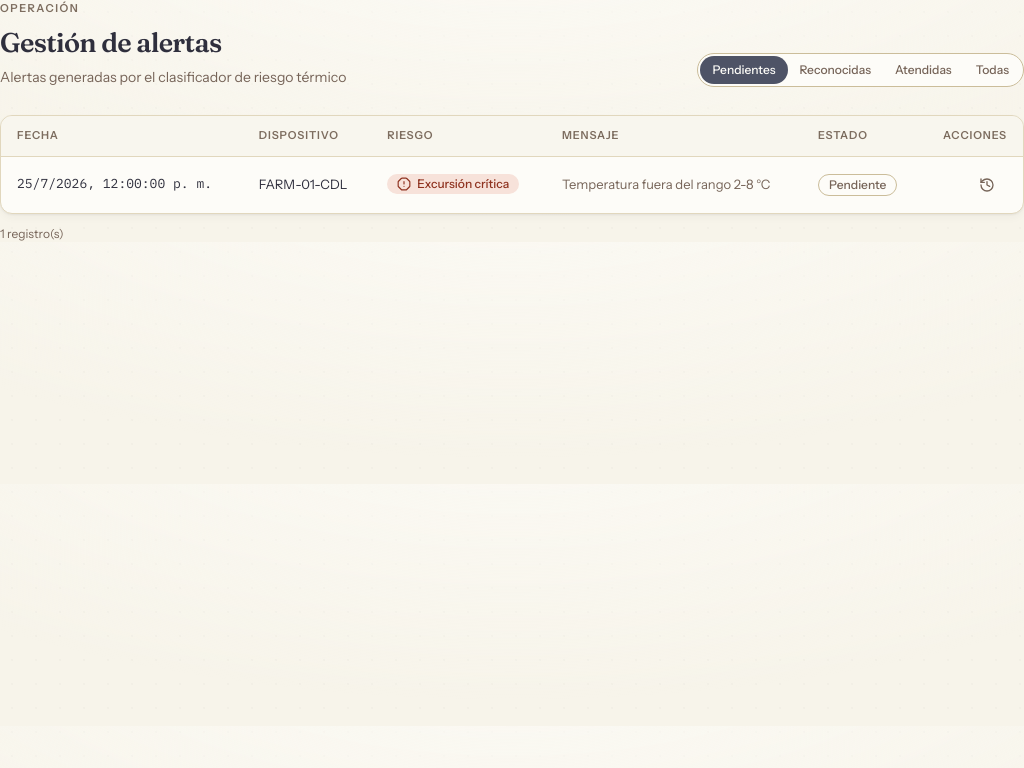
Scenario: AlertasPage (RF-09, RF-10, HU-20/21/23/27/41) › informa fallo al cargar cronología sin afirmar que no hay acciones
The width and height of the screenshot is (1024, 768).
What coordinates should you click on to do the following:
click the button named "Ver cronología de atención: FARM-01-CDL"
I would click on:
 (987, 184)
Its box is x1=967 y1=168 x2=1007 y2=200.
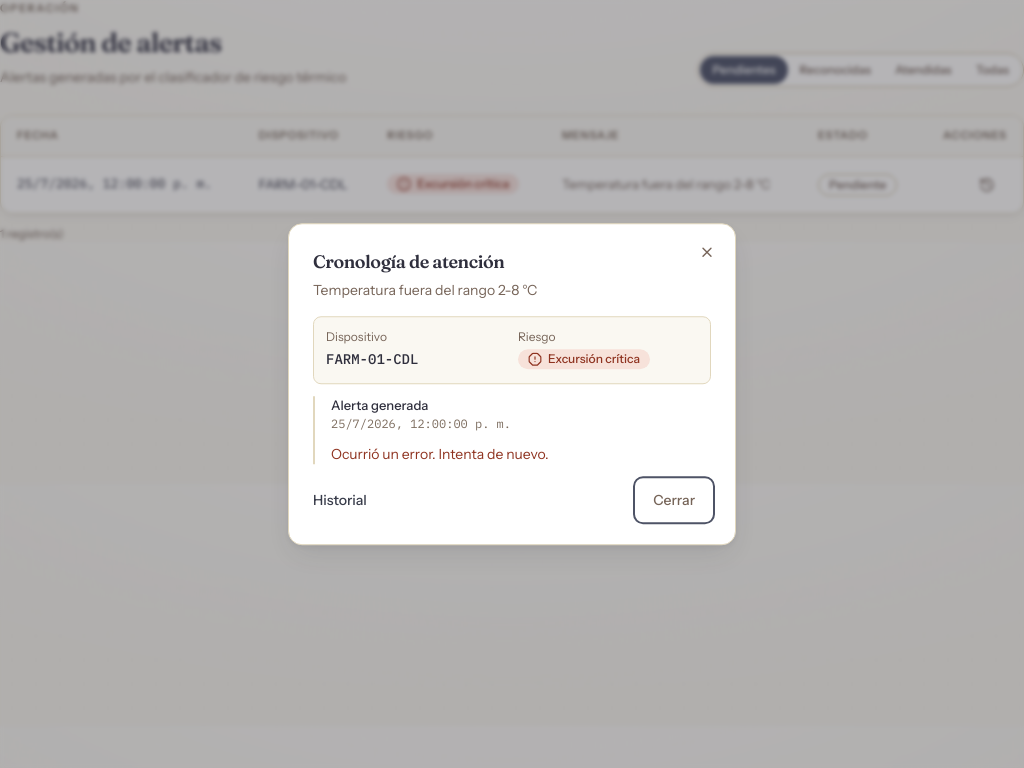
Expected: the message "Ocurrió un error. Intenta de nuevo." is shown, x1=331 y1=445 x2=549 y2=463
